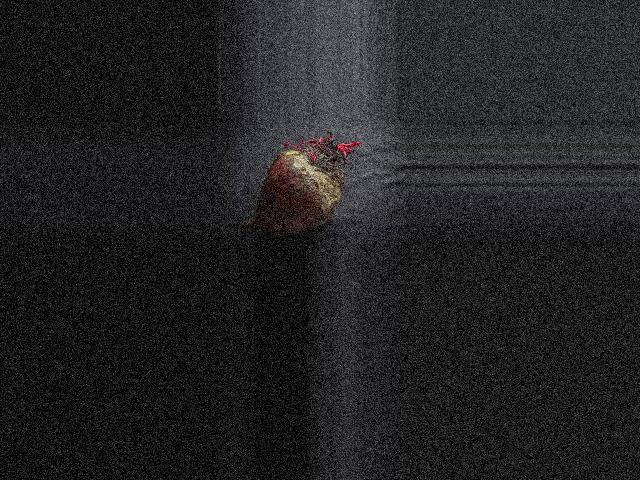beet: (239, 131, 361, 235)
